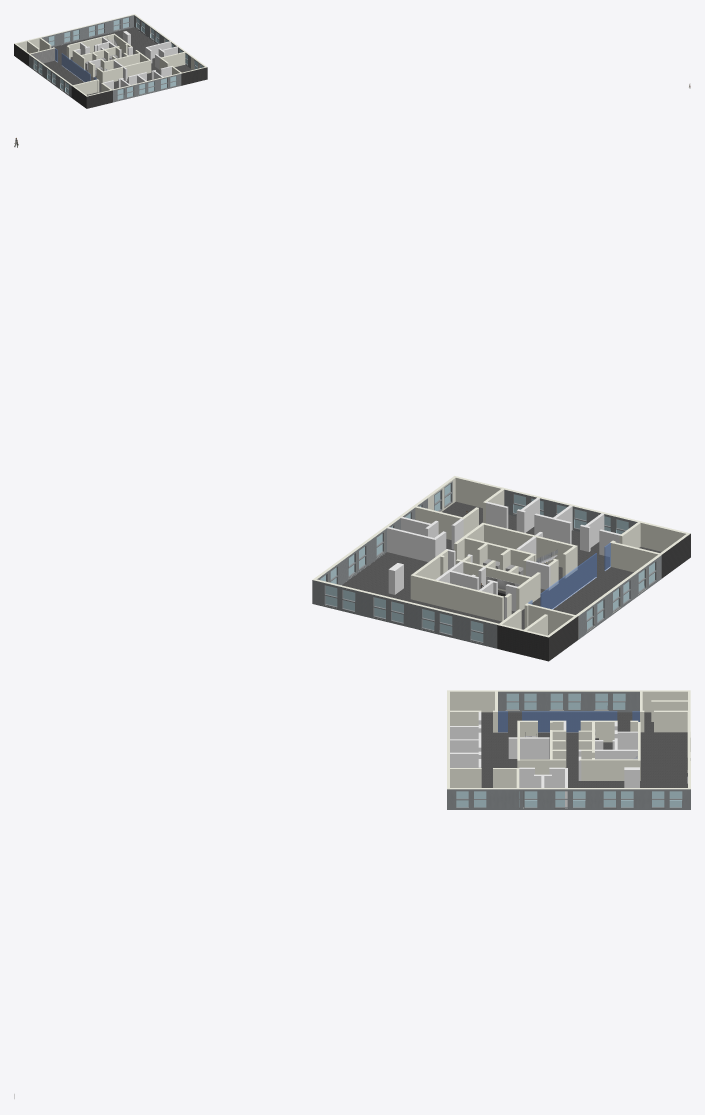
The picture shows the model from 3 angles, top to bottom: view 1: azimuth 30°, elevation 25°; view 2: azimuth 150°, elevation 25°; view 3: azimuth 270°, elevation 25°; orthographic projection. The views are drawn at different scales.
Visible parts, largest first — view 1: e22, 房间, 房间#2, 组件#1, 内墙体#1, 内墙体#2, 内墙体#23, 内墙体#11, 内墙体#13, 内墙体#4, 电梯组, 内墙体#18; view 2: e22, 房间#2, 房间, 内墙体#11, 组件#1, 内墙体#1, 内墙体#2, 内墙体#18, 内墙体#4, 内墙体#23, 电梯组, 内墙体#13; view 3: e22, 组件#1, 房间, 房间#2, 内墙体#4, 内墙体#2, 内墙体#10, 电梯组.
Part boxes in pixels (x1=…): e22: x1=39, y1=14, x2=207, y2=102; 房间: x1=71, y1=79, x2=112, y2=108; 房间#2: x1=14, y1=37, x2=55, y2=66; 组件#1: x1=29, y1=54, x2=72, y2=97; 内墙体#1: x1=102, y1=60, x2=151, y2=82; 内墙体#2: x1=66, y1=45, x2=102, y2=82; 内墙体#23: x1=94, y1=53, x2=139, y2=76; 内墙体#11: x1=67, y1=33, x2=114, y2=56; 内墙体#13: x1=81, y1=44, x2=127, y2=61; 内墙体#4: x1=114, y1=34, x2=150, y2=62; 电梯组: x1=92, y1=47, x2=128, y2=71; 内墙体#18: x1=145, y1=41, x2=171, y2=58; e22: x1=312, y1=476, x2=661, y2=648; 房间#2: x1=497, y1=603, x2=578, y2=661; 房间: x1=610, y1=521, x2=690, y2=578; 内墙体#11: x1=410, y1=574, x2=503, y2=621; 组件#1: x1=576, y1=554, x2=661, y2=639; 内墙体#1: x1=482, y1=522, x2=577, y2=570; 内墙体#2: x1=504, y1=546, x2=576, y2=619; 内墙体#18: x1=387, y1=527, x2=436, y2=561; 内墙体#4: x1=412, y1=523, x2=483, y2=579; 内墙体#23: x1=464, y1=537, x2=555, y2=567; 电梯组: x1=462, y1=543, x2=533, y2=597; 内墙体#13: x1=440, y1=555, x2=530, y2=591; e22: x1=447, y1=711, x2=690, y2=809; 组件#1: x1=498, y1=690, x2=639, y2=712; 房间: x1=447, y1=690, x2=497, y2=732; 房间#2: x1=640, y1=690, x2=690, y2=732; 内墙体#4: x1=519, y1=759, x2=638, y2=780; 内墙体#2: x1=519, y1=720, x2=638, y2=742; 内墙体#10: x1=508, y1=737, x2=549, y2=758; 电梯组: x1=552, y1=730, x2=598, y2=767.
Size of the model in its own units: 163 by 4.26 by 120.
Materials: 43 (8 with a texture image).
